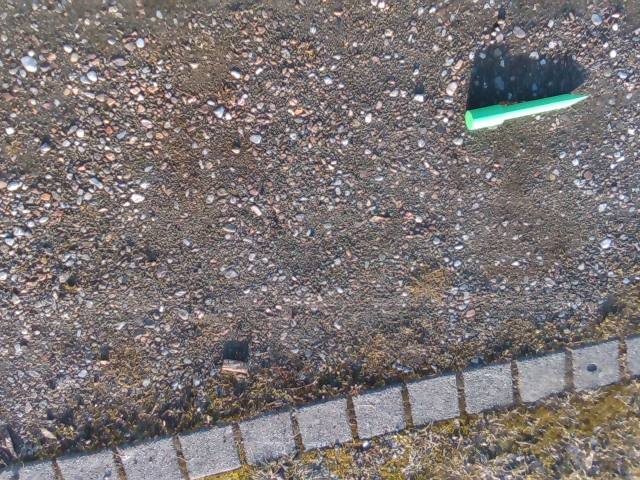Probe: (462, 89, 595, 135)
